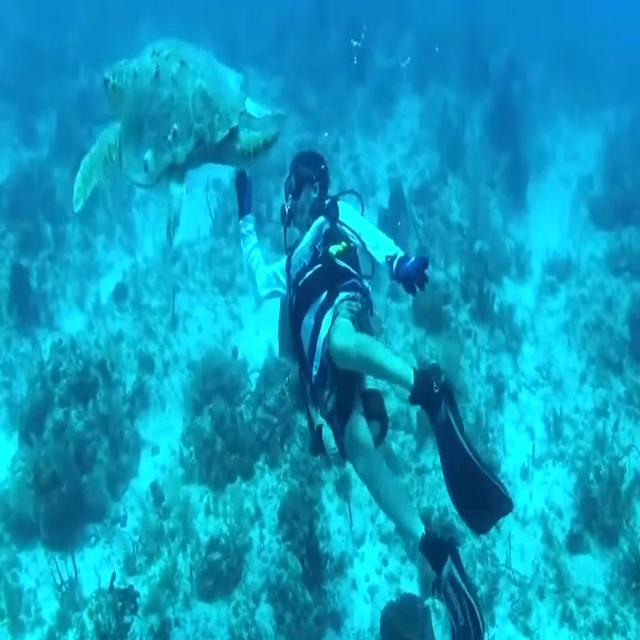Sea turtle: (74, 36, 278, 224)
